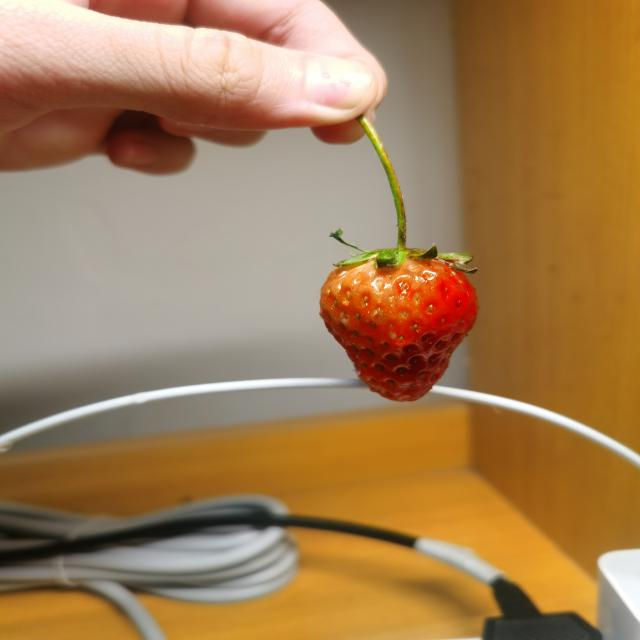stem: (384, 166, 406, 253)
strawberry: (320, 248, 479, 402)
